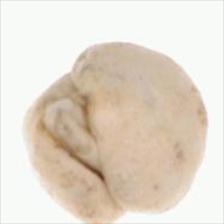L3: (36, 93, 103, 175)
L4: (21, 41, 209, 223)
